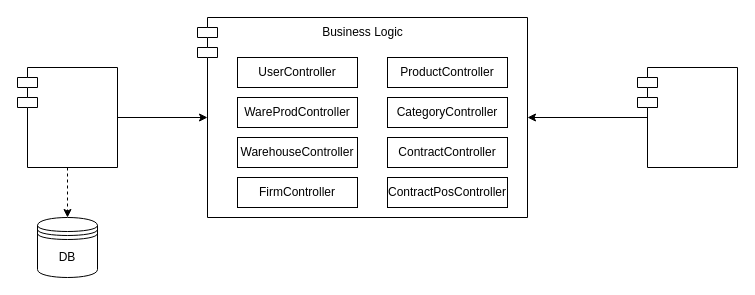
This 755x295 diagram has some shape labels left out. Here are the shapes that lost their labels. From the top down, the box of each, then its label:
(16, 66, 118, 168): Data Access
(636, 66, 738, 168): UI
